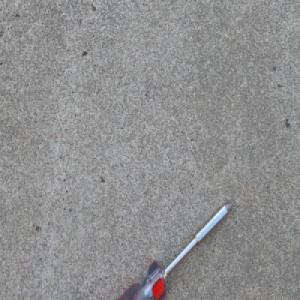Screwdriver: (112, 197, 235, 300)
